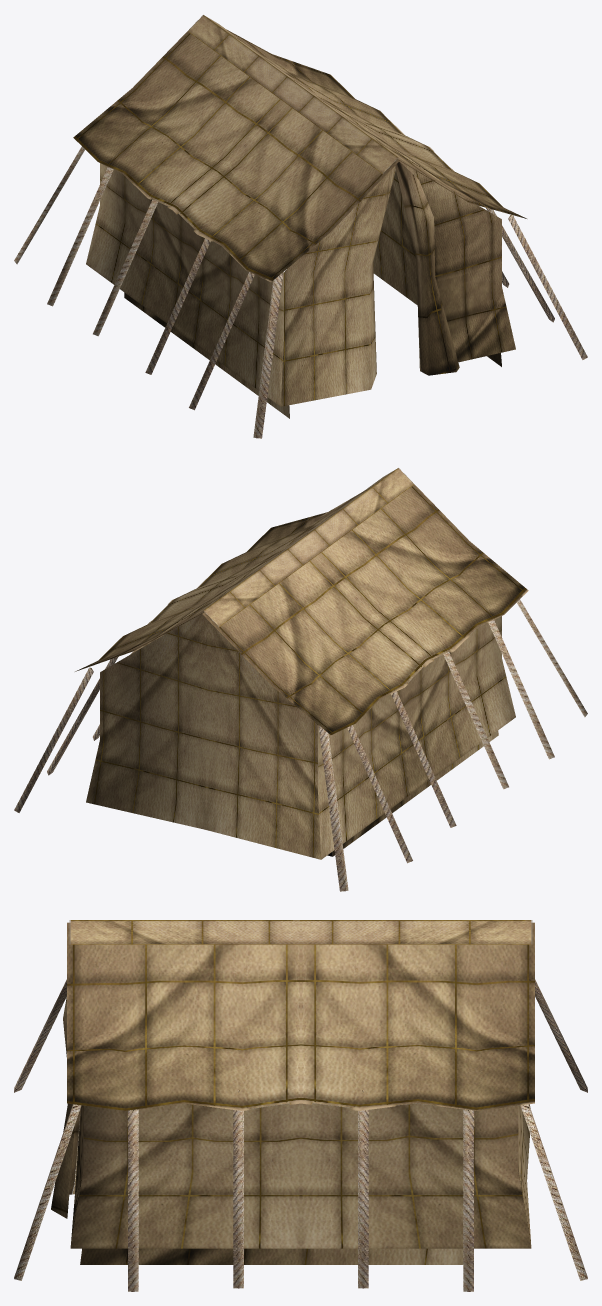
File: rome_tent_c.dae
3 views of the same model, one above another, from view 1: azimuth 30°, elevation 25°; view 2: azimuth 150°, elevation 25°; view 3: azimuth 270°, elevation 25° (orthographic). The views are drawn at different scales.
Visible parts, largest first — view 1: rome_tent_c; view 2: rome_tent_c; view 3: rome_tent_c.
Boxes of the visible parts, bbox=[...] form: rome_tent_c: bbox=[14, 15, 587, 438]; rome_tent_c: bbox=[14, 468, 587, 891]; rome_tent_c: bbox=[14, 920, 587, 1291].
Size of the model in its own units: 7.65 by 4.77 by 8.78.
